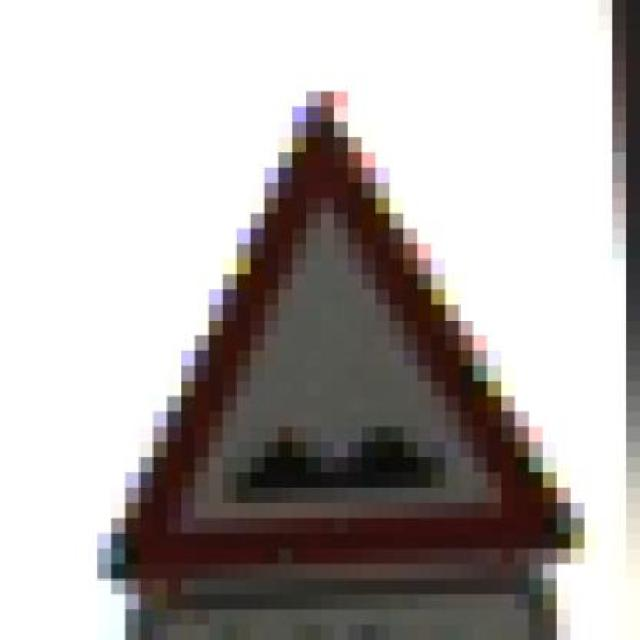Uneven Road: (69, 107, 585, 595)
